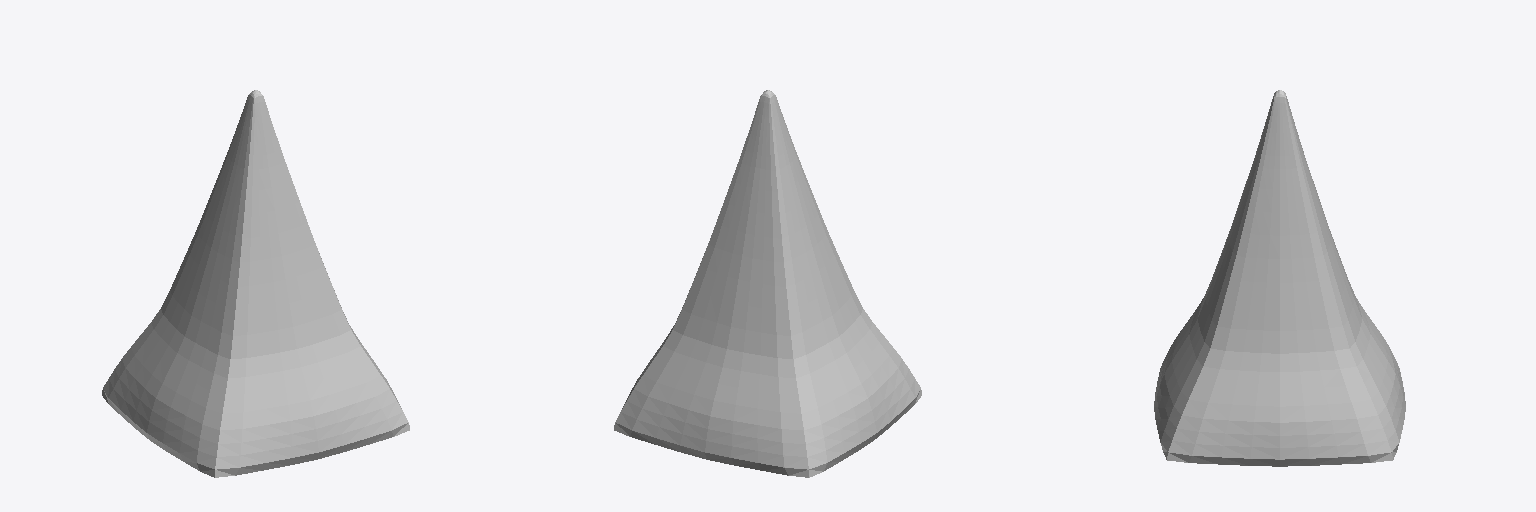
The model's file is thing.obj.
The picture shows the model from 3 angles: view 1: azimuth 30°, elevation 25°; view 2: azimuth 150°, elevation 25°; view 3: azimuth 270°, elevation 25°; orthographic projection.
Visible parts, largest first — view 1: Cube; view 2: Cube; view 3: Cube.
Part boxes in pixels (left/top/right/bottom): Cube: left=102, top=90, right=409, bottom=477; Cube: left=614, top=90, right=921, bottom=477; Cube: left=1154, top=90, right=1405, bottom=466.
Size of the model in its own units: 1.63 by 2.37 by 1.63.